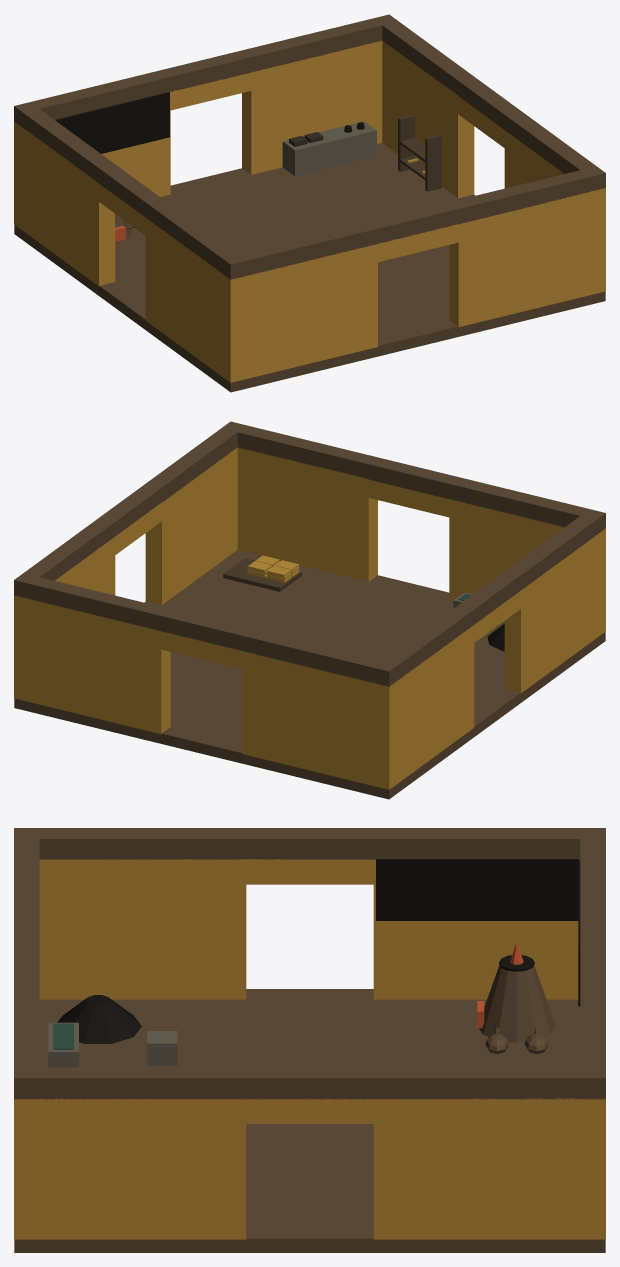
File: BronzeFoundry.fbx
3 renders of one model, top to bottom at view 1: azimuth 30°, elevation 25°; view 2: azimuth 150°, elevation 25°; view 3: azimuth 270°, elevation 25°, orthographic. The views are drawn at different scales.
Parts seen in each view (by area): view 1: BronzeFoundry; view 2: BronzeFoundry; view 3: BronzeFoundry.
Part boxes in pixels (x1,y1,x2,y2): BronzeFoundry: [14, 14, 605, 392]; BronzeFoundry: [14, 421, 605, 799]; BronzeFoundry: [14, 828, 605, 1252].
Bounding box in the file's own units: 1202 × 392 × 1202.
8 materials, 8 textured.
